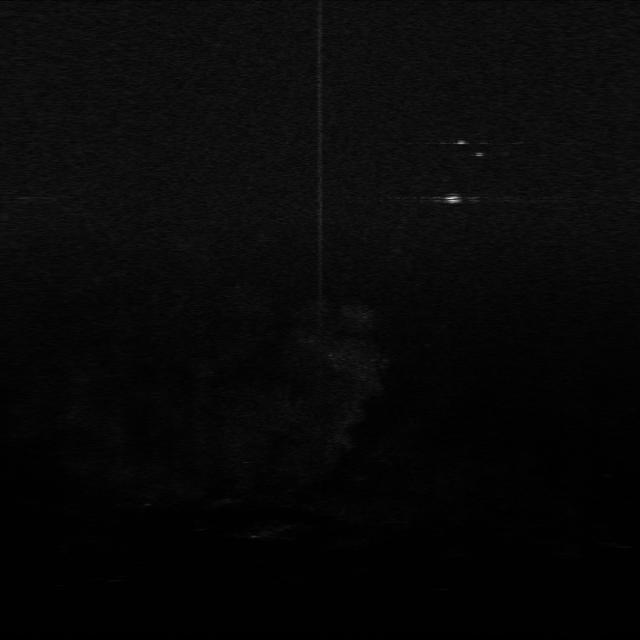rov: (443, 190, 463, 207)
